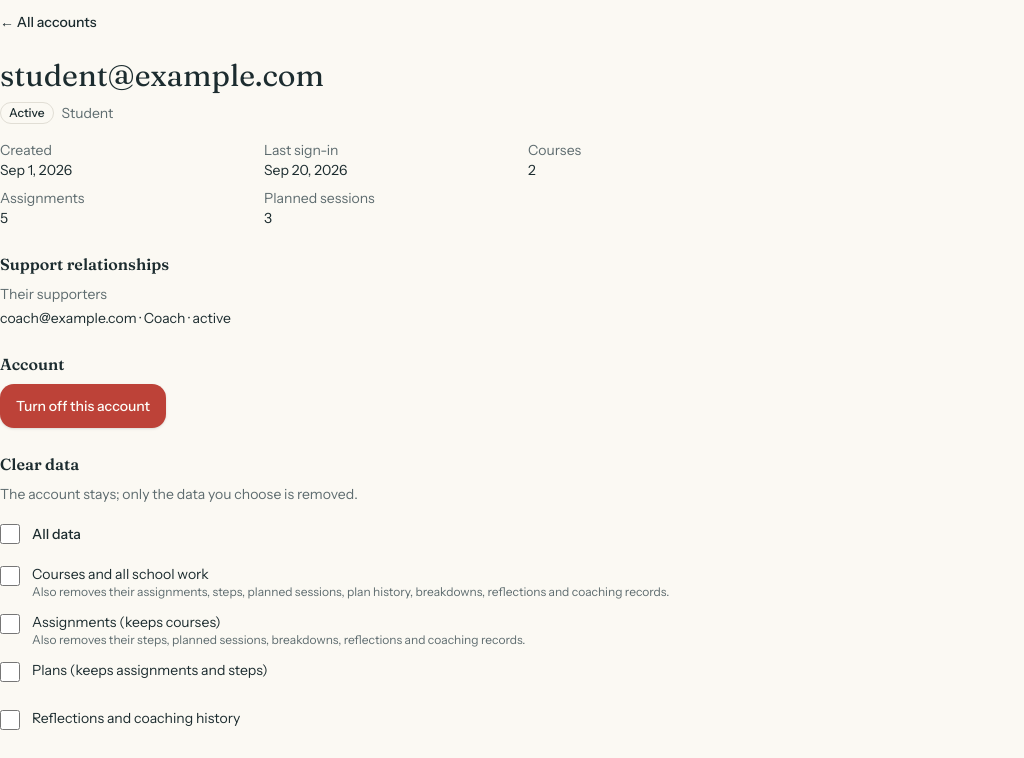
AccountPage (admin-account-management-v0.1.md, requirement 2) › turning off and on (A3) › asks first, then turns it off and says so
Click the button "Turn off this account": click(83, 406) [0, 384, 166, 428]
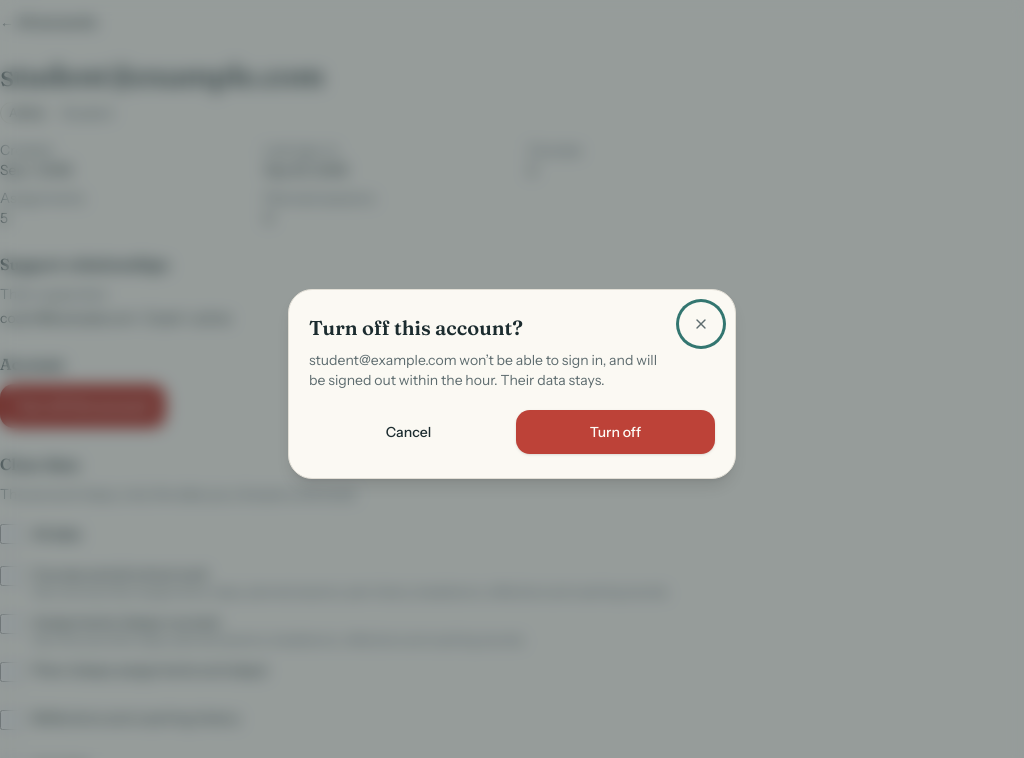
Check: the dialog "Turn off this account?" shows "won’t be able to sign in", box [309, 351, 657, 389]
Click the button "Turn off": click(616, 432) [516, 410, 715, 454]
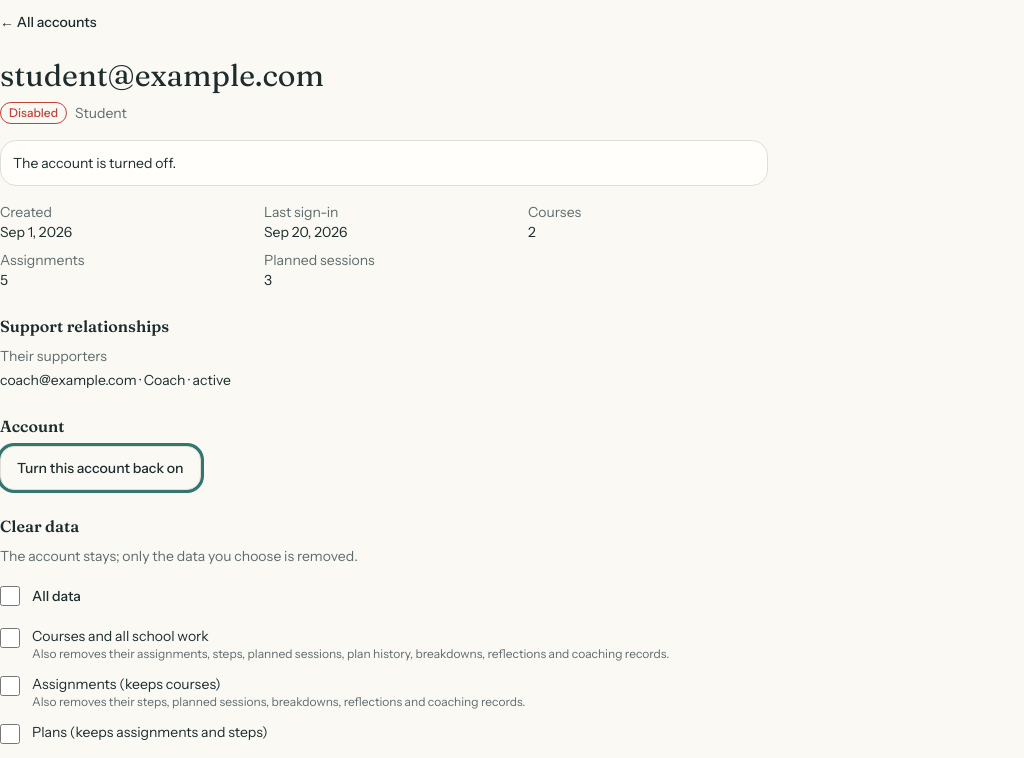
Check: the text "The account is turned off." is shown, box [0, 140, 768, 186]
Check: the button "Turn this account back on" is shown, box [0, 446, 201, 490]
